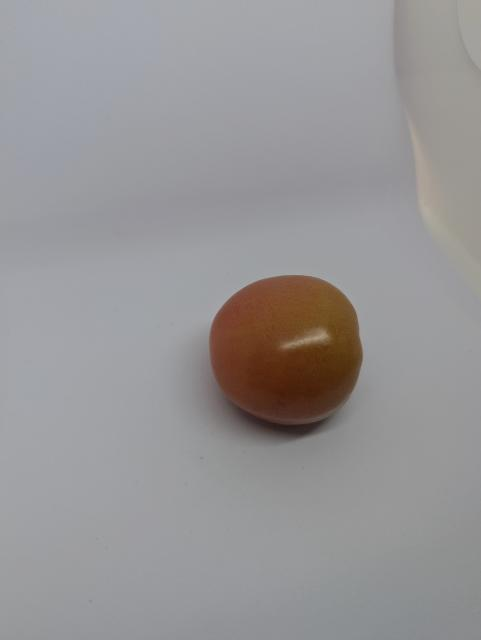red: (207, 271, 368, 430)
